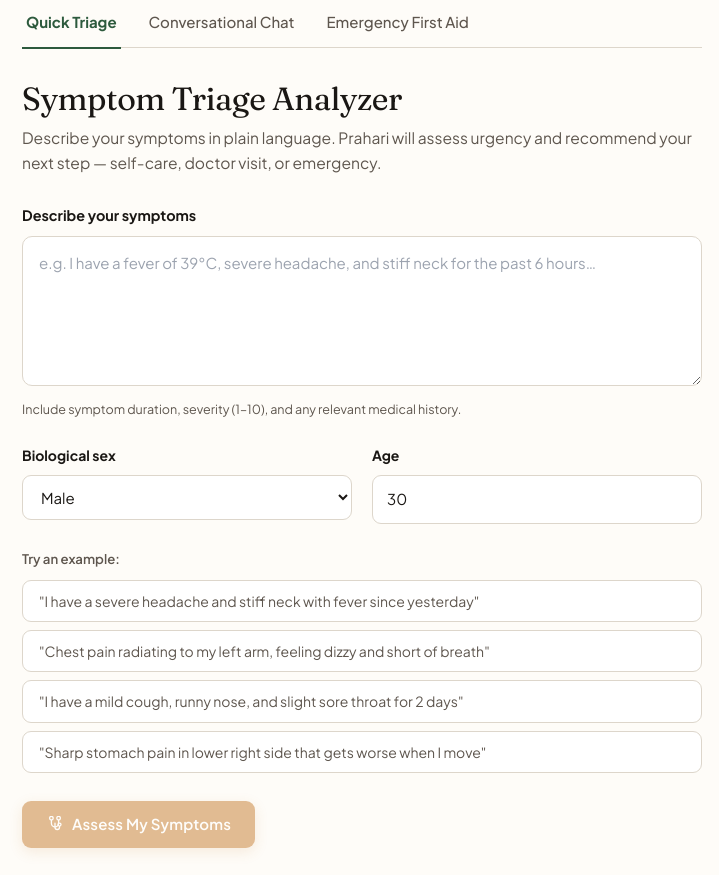
Test: TriagePage Component Integration › allows filling out the symptom form and displaying triage results (critical)
Expected: the heading "Symptom Triage Analyzer" is shown, x1=22 y1=79 x2=402 y2=118
Find input and type symptom
Step 1. Replace the text in the text box labelled "Describe your symptoms" with "Chest pain radiating to arm" → (362, 311), box x1=22 y1=236 x2=702 y2=386
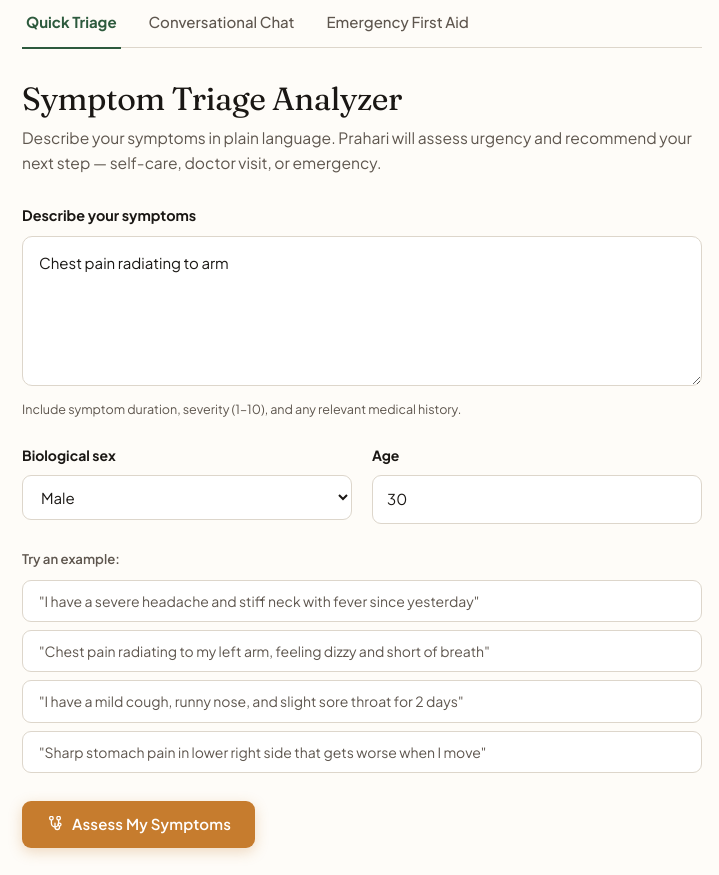
Find age input and change
Step 2. Replace the text in the number field labelled "Age" with "45" → (537, 499), box x1=372 y1=475 x2=702 y2=524
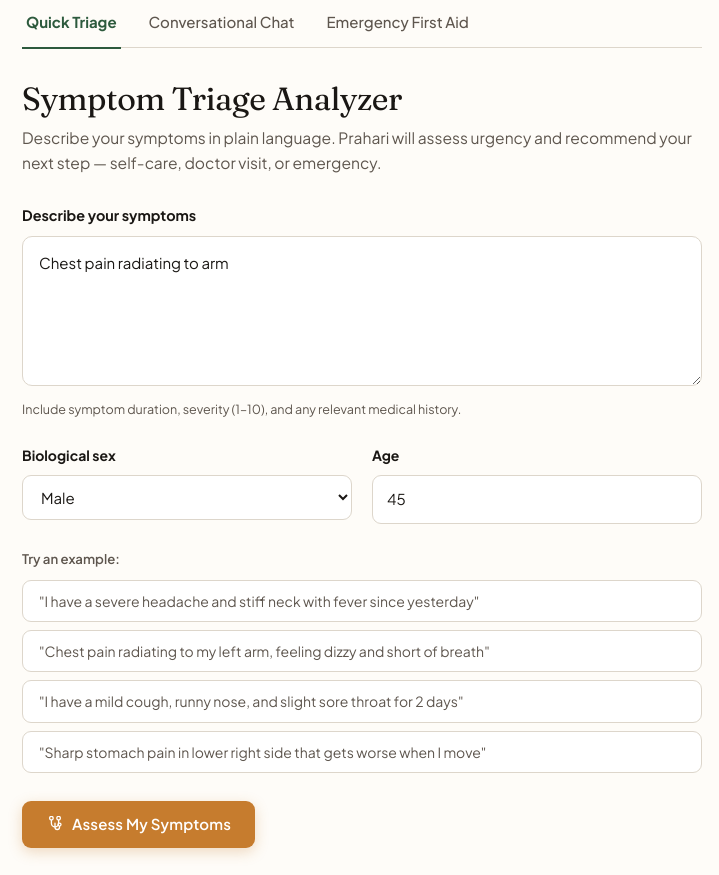
Click assess button
Step 3. Click the button "Assess My Symptoms" → (138, 824), box x1=22 y1=801 x2=255 y2=848
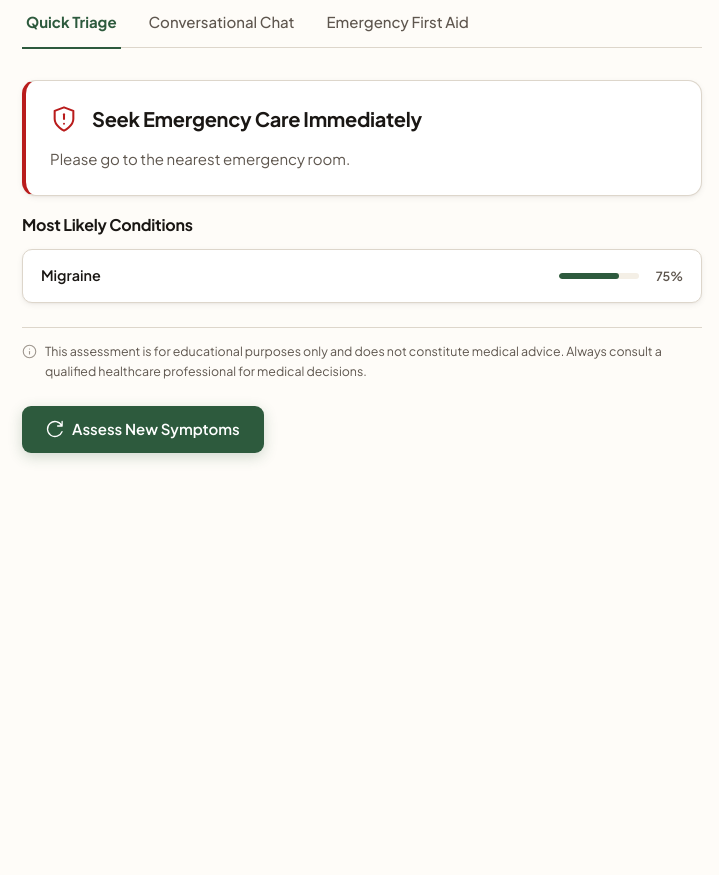
Expected: the heading "Seek Emergency Care Immediately" is shown, x1=92 y1=108 x2=422 y2=131
Expected: the text "Please go to the nearest emergency room." is shown, x1=50 y1=149 x2=350 y2=168
Expected: the text "Migraine" is shown, x1=41 y1=264 x2=101 y2=288
Click reset button
Step 4. Click the button "Assess New Symptoms" → (143, 429), box x1=22 y1=406 x2=264 y2=453
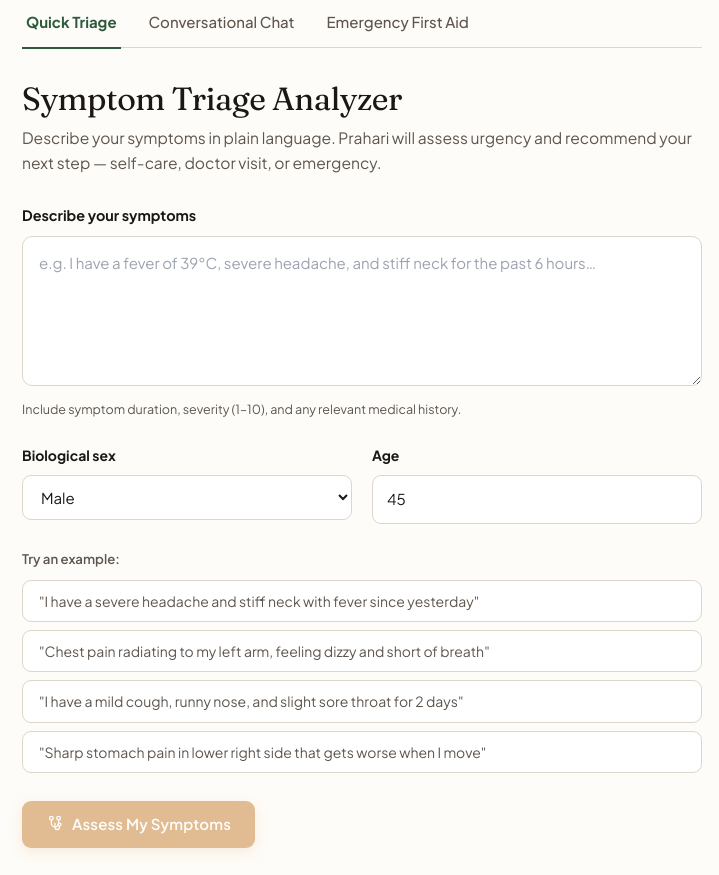
Expected: the text box labelled "Describe your symptoms" is shown, x1=22 y1=236 x2=702 y2=386
